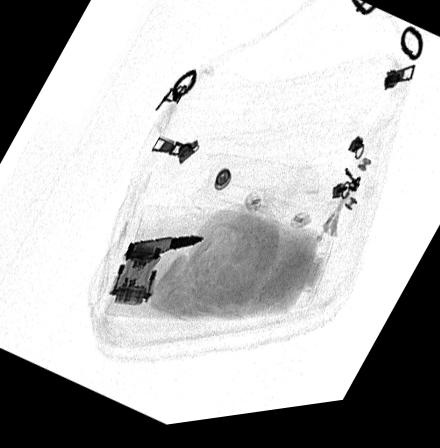Bullet: (124, 240, 204, 264)
